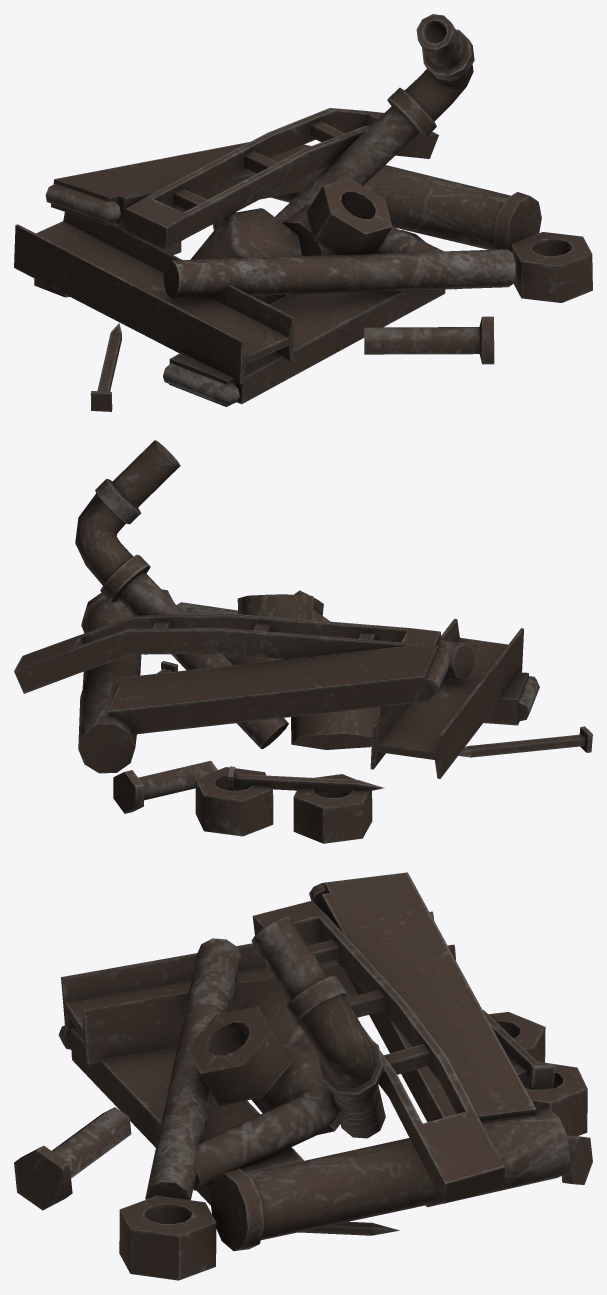
The model's file is loot_scrap.glb.
3 renders of one model, top to bottom at view 1: azimuth 30°, elevation 25°; view 2: azimuth 150°, elevation 25°; view 3: azimuth 270°, elevation 25°, orthographic. The views are drawn at different scales.
Parts seen in each view (by area): view 1: loot_scrap_mesh; view 2: loot_scrap_mesh; view 3: loot_scrap_mesh.
Boxes of the visible parts, x1,y1,x2,y2 form: loot_scrap_mesh: [14, 14, 592, 411]; loot_scrap_mesh: [14, 440, 592, 843]; loot_scrap_mesh: [14, 872, 592, 1280].
Size of the model in its own units: 0.7 by 0.3641 by 0.5844.
Materials: 1 (1 with a texture image).
